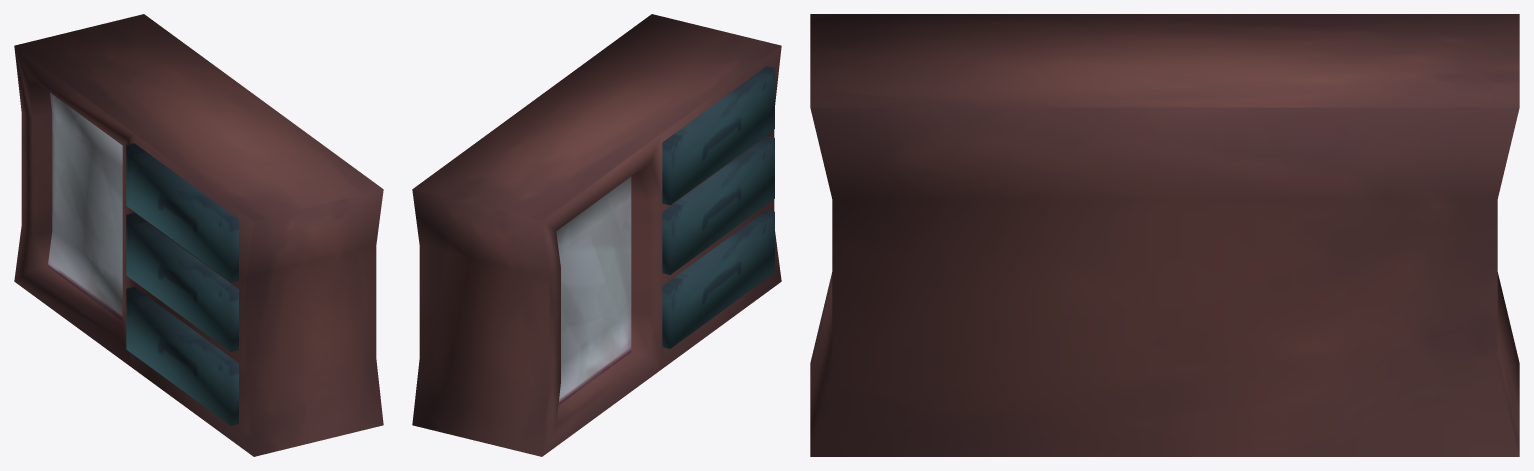
Rendered from EstantePequena2.fbx.
3 views of the same model, side by side, from view 1: azimuth 30°, elevation 25°; view 2: azimuth 150°, elevation 25°; view 3: azimuth 270°, elevation 25° (orthographic). The views are drawn at different scales.
Parts seen in each view (by area): view 1: EstantePequena2; view 2: EstantePequena2; view 3: EstantePequena2.
Part boxes in pixels (x1,y1,x2,y2): EstantePequena2: (14, 14, 383, 456); EstantePequena2: (412, 14, 781, 456); EstantePequena2: (810, 14, 1519, 456).
Bounding box in the file's own units: 80.41 × 242 × 131.
